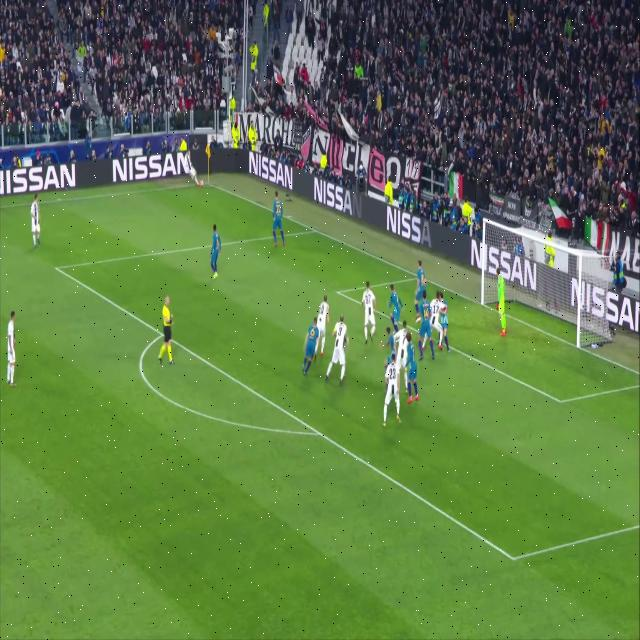Ball: (199, 174, 206, 190)
GoalKeeper: (496, 262, 508, 340)
TEAM 1: (326, 319, 349, 388), (382, 354, 403, 429), (361, 282, 378, 346), (397, 319, 408, 394), (30, 196, 42, 250), (432, 290, 442, 352), (186, 143, 198, 190), (318, 293, 328, 348)
TEAM 2: (416, 289, 434, 362), (301, 311, 319, 383), (406, 333, 419, 404), (272, 194, 286, 249), (210, 225, 224, 280), (388, 284, 405, 328), (415, 256, 426, 323), (384, 324, 397, 368), (441, 294, 450, 355)
